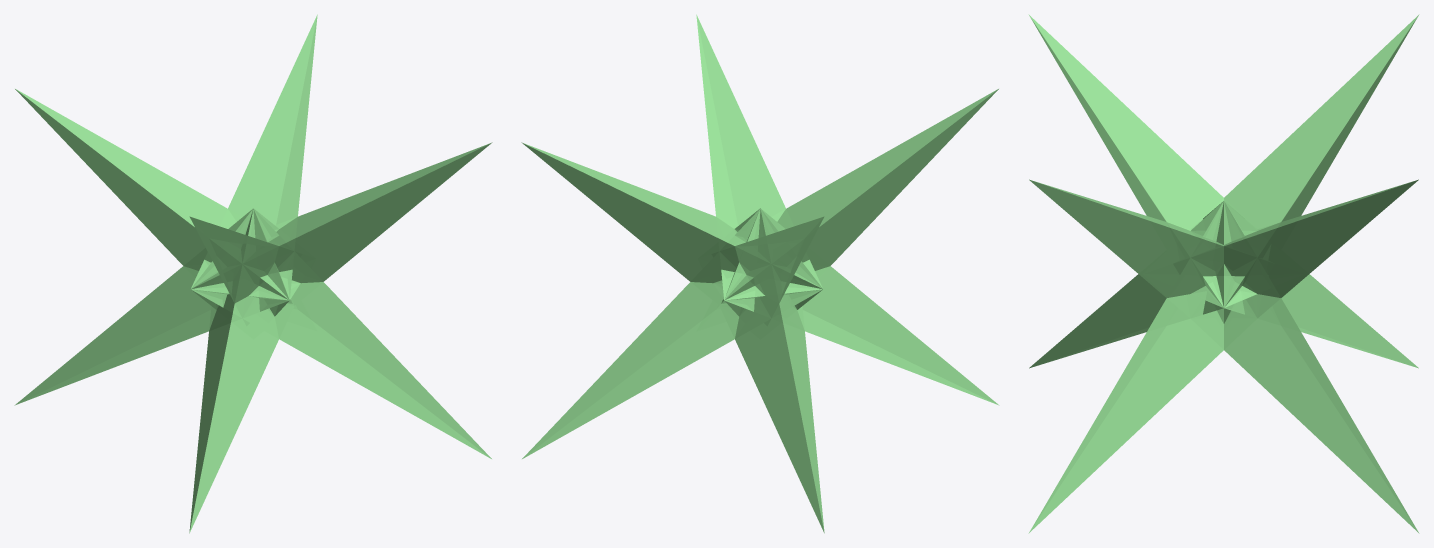
The model's file is GreatTriakisOctahedron.obj.
3 views of the same model, side by side, from view 1: azimuth 30°, elevation 25°; view 2: azimuth 150°, elevation 25°; view 3: azimuth 270°, elevation 25° (orthographic). The views are drawn at different scales.
Bounding box in the file's own units: 2 × 2 × 2.
